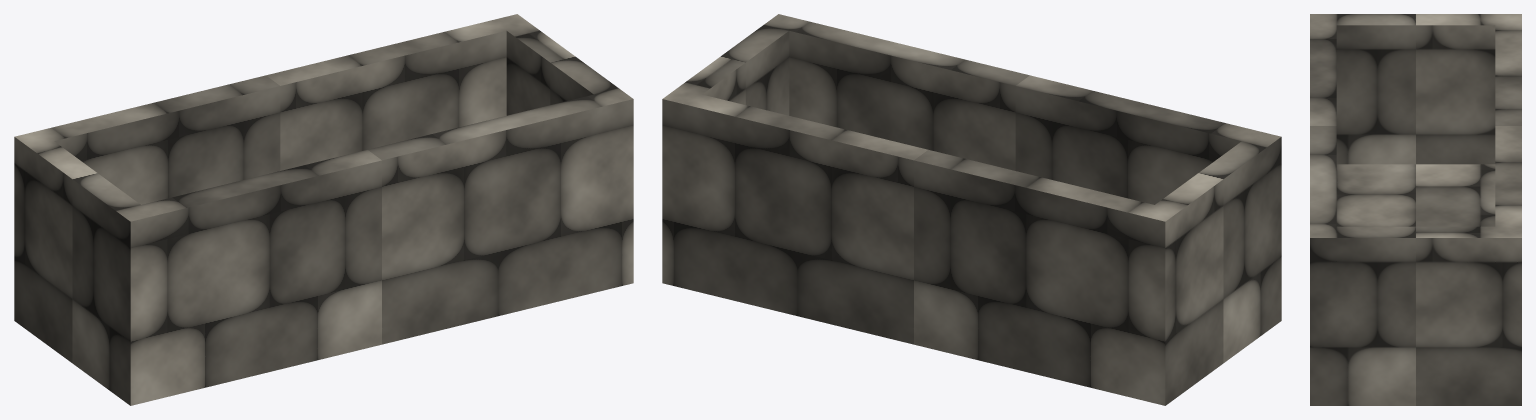
File: Trough_Stone_1_LOD1.gltf
3 renders of one model, left to right at view 1: azimuth 30°, elevation 25°; view 2: azimuth 150°, elevation 25°; view 3: azimuth 270°, elevation 25°, orthographic. The views are drawn at different scales.
Visible parts, largest first — view 1: Trough_Stone_1_LOD1; view 2: Trough_Stone_1_LOD1; view 3: Trough_Stone_1_LOD1.
Boxes of the visible parts, bbox=[...] form: Trough_Stone_1_LOD1: bbox=[14, 14, 633, 405]; Trough_Stone_1_LOD1: bbox=[662, 14, 1281, 405]; Trough_Stone_1_LOD1: bbox=[1310, 14, 1521, 405].
Bounding box in the file's own units: 2 × 0.7 × 0.8.
Materials: 1 (1 with a texture image).
